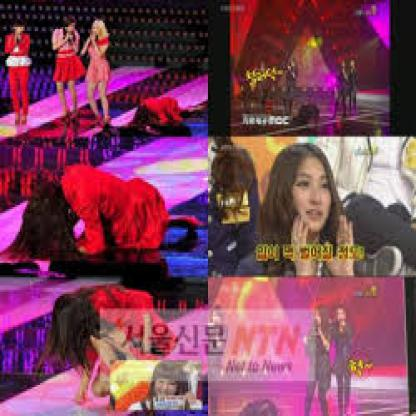Fall_Down: (16, 159, 204, 258)
